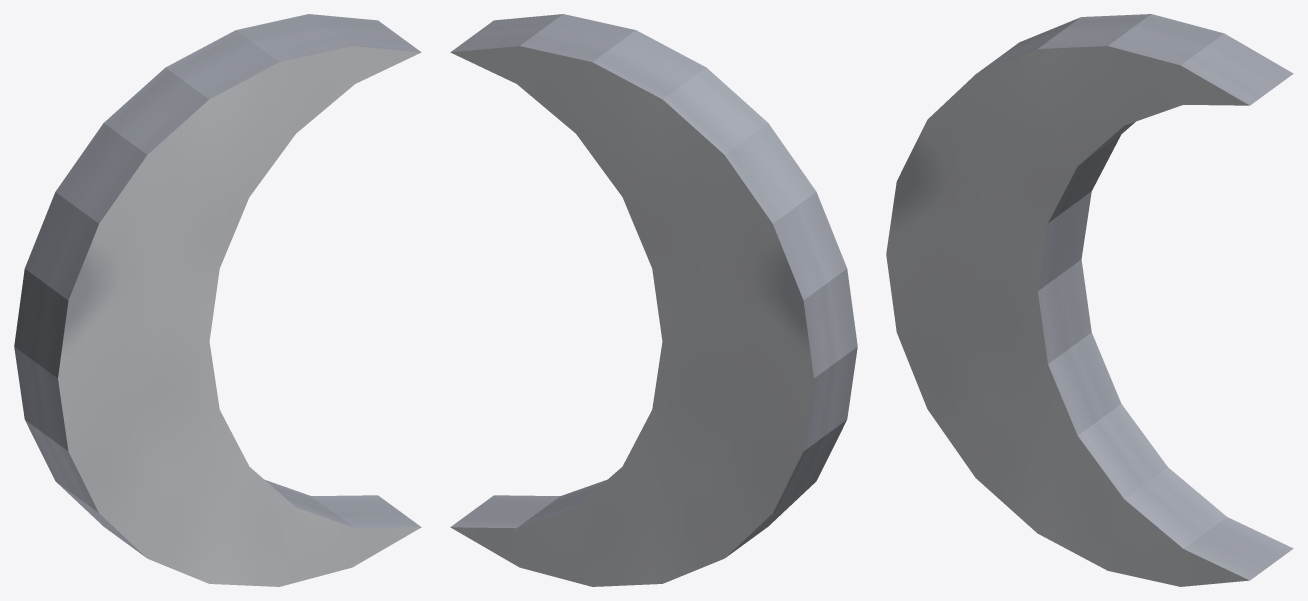
Rendered from moon_crescent.obj.
The picture shows the model from 3 angles, left to right: view 1: azimuth 30°, elevation 25°; view 2: azimuth 150°, elevation 25°; view 3: azimuth 330°, elevation 25°; orthographic projection.
Visible parts, largest first — view 1: moon_crescent; view 2: moon_crescent; view 3: moon_crescent.
Part boxes in pixels (bbox=[...]): moon_crescent: bbox=[14, 14, 421, 586]; moon_crescent: bbox=[450, 14, 857, 586]; moon_crescent: bbox=[886, 14, 1293, 586].
Size of the model in its own units: 4.32 by 5.95 by 0.9.
1 material, 1 textured.
